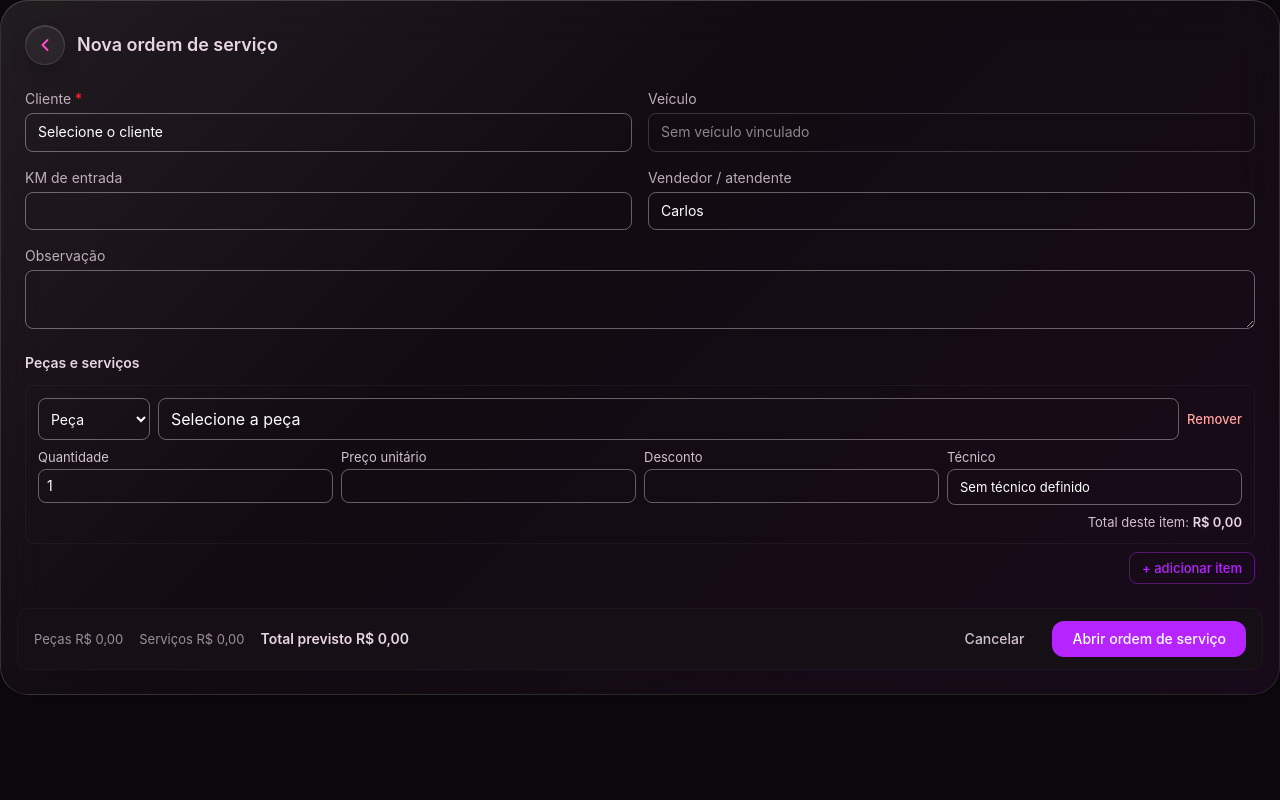
Test case: OrdemServicoForm — lançar item › escolher a peça preenche descrição e preço sozinho
Click the 2nd dropdown showing "Selecione a peça" at (669,419), box left=158, top=398, right=1179, bottom=440
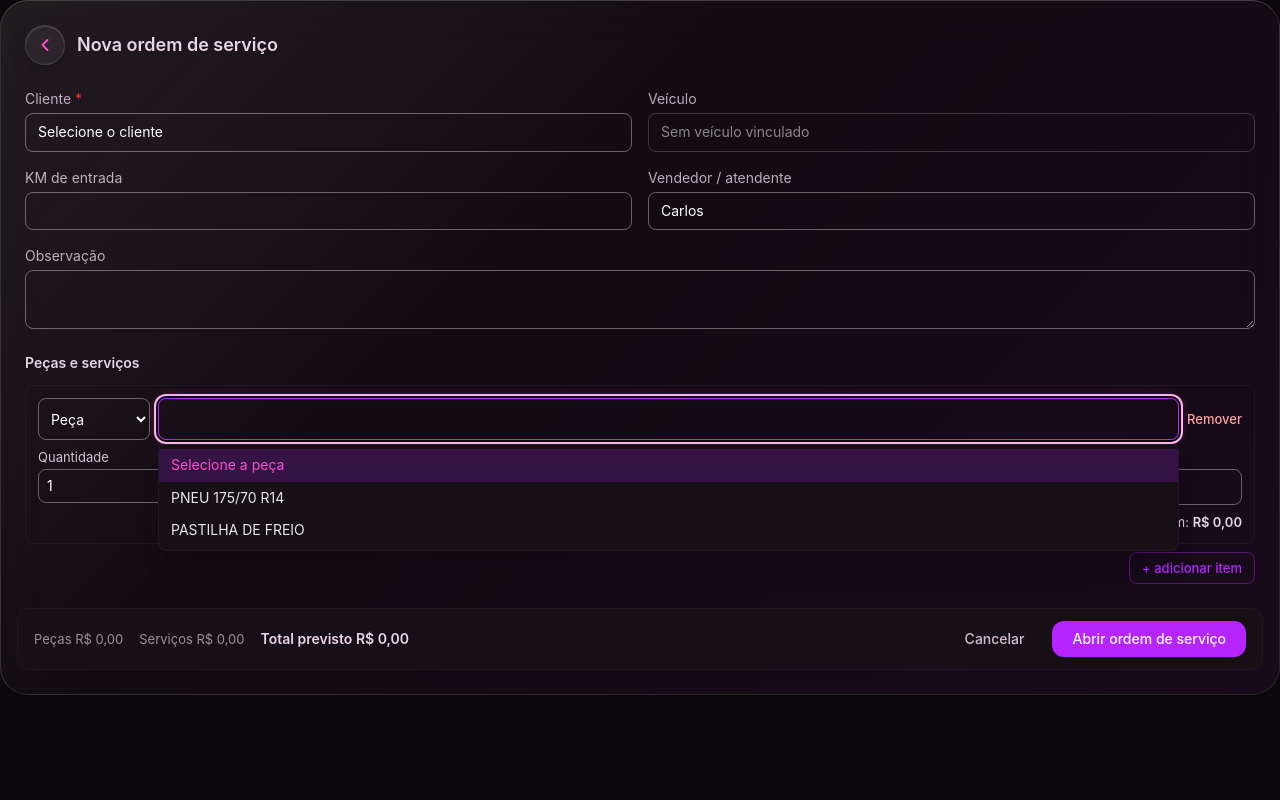
Click the button "PNEU 175/70 R14" at (228,497), box left=159, top=482, right=1178, bottom=514
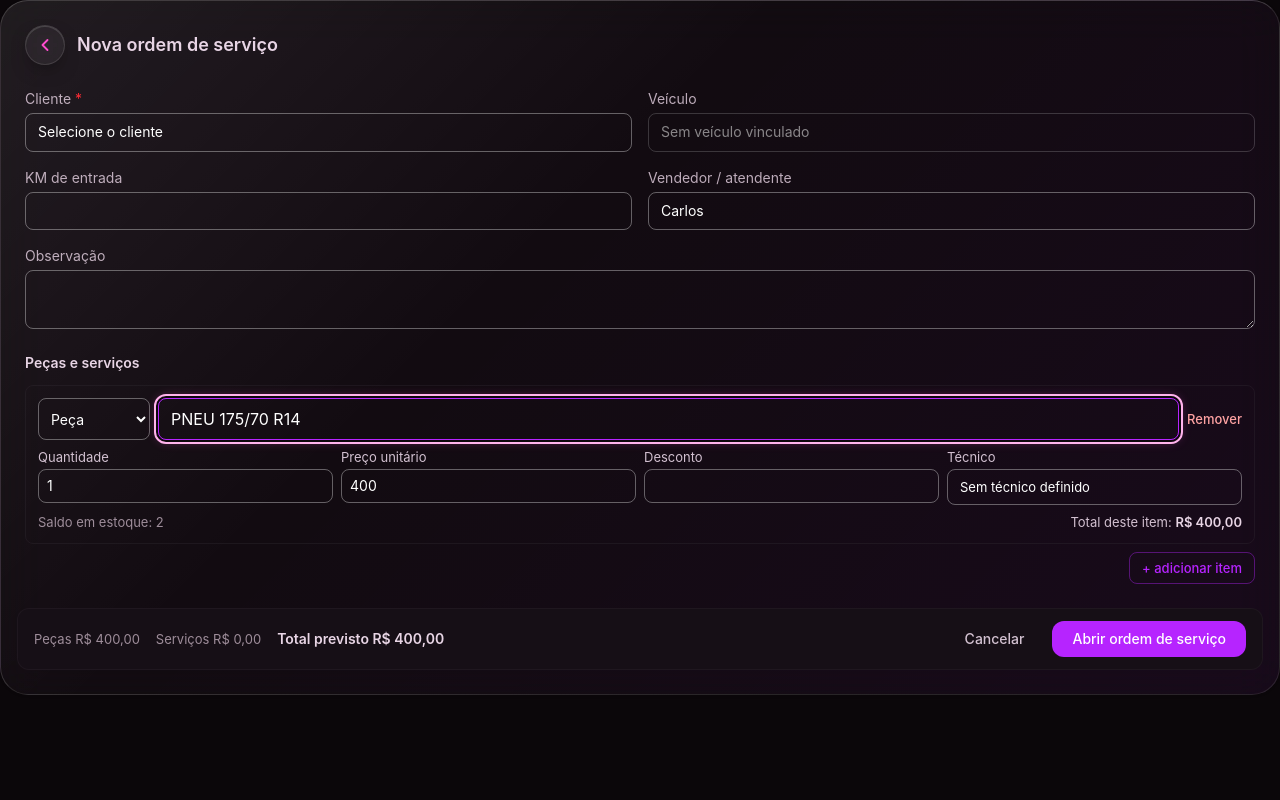
Expected: the number field labelled "Preço unitário" holds "400", left=341, top=469, right=636, bottom=503
